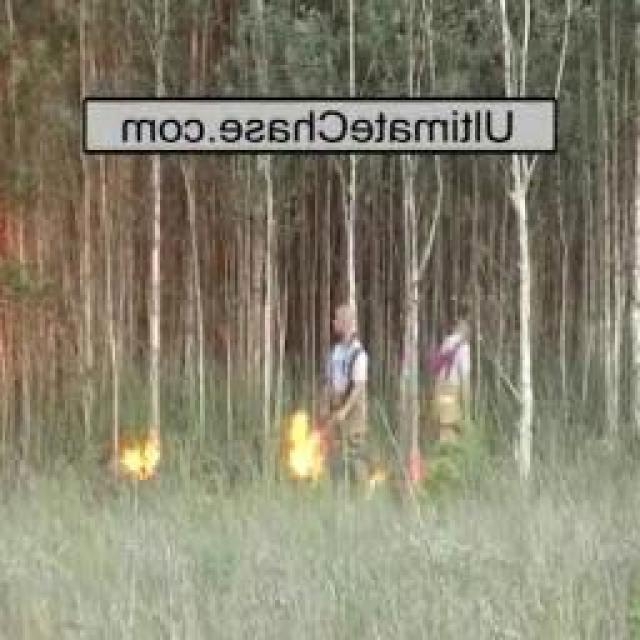Fire: (289, 408, 327, 483), (117, 429, 162, 489), (362, 465, 393, 495), (404, 451, 429, 486)
